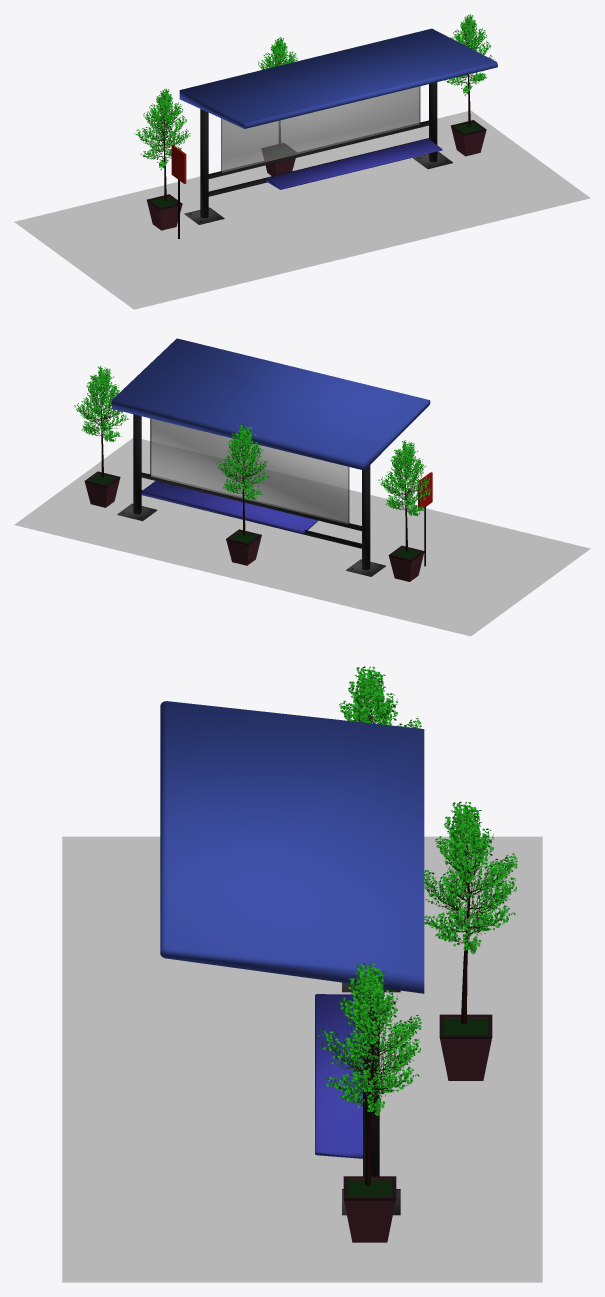
Rendered from stationBus.obj.
3 views of the same model, one above another, from view 1: azimuth 30°, elevation 25°; view 2: azimuth 150°, elevation 25°; view 3: azimuth 270°, elevation 25° (orthographic). The views are drawn at different scales.
Parts seen in each view (by area): view 1: Plane, Cube.002, Cube.004, Cylinder.012_Cylinder.014, Cube.003, leaves, leaves.001, Cube.006_Cube.007, Cube.005_Cube.006, Cube.007_Cube.008, Cube.001, tree (+2 smaller); view 2: Plane, Cube.002, Cube.004, Cylinder.012_Cylinder.014, Cube.003, leaves.002, leaves, leaves.001, Cube.006_Cube.007, Cube.007_Cube.008, Cube.005_Cube.006, Cube.001 (+3 smaller); view 3: Plane, Cube.002, leaves.001, leaves.002, Cube.003, Cube.007_Cube.008, Cube.006_Cube.007, tree.002, tree.001, leaves, Cylinder.012_Cylinder.014.
Boxes of the visible parts, x1,y1,x2,y2 form: Plane: (14,110,590,309); Cube.002: (179,28,497,128); Cube.004: (222,86,419,172); Cylinder.012_Cylinder.014: (200,82,437,218); Cube.003: (266,138,442,189); leaves: (134,88,190,170); leaves.001: (444,14,495,96); Cube.006_Cube.007: (450,120,486,156); Cube.005_Cube.006: (147,194,182,230); Cube.007_Cube.008: (262,143,296,176); Cube.001: (184,151,453,224); tree: (138,101,183,200); Plane: (14,438,590,636); Cube.002: (112,338,430,470); Cube.004: (151,418,348,524); Cylinder.012_Cylinder.014: (133,414,370,570); Cube.003: (142,481,317,533); leaves.002: (216,424,270,499); leaves: (378,440,432,516); leaves.001: (74,366,128,441); Cube.006_Cube.007: (84,471,120,507); Cube.007_Cube.008: (226,529,261,565); Cube.005_Cube.006: (388,545,424,581); Cube.001: (117,503,385,576); Plane: (62,836,542,1282); Cube.002: (160,701,424,993); leaves.001: (317,963,421,1115); leaves.002: (424,801,517,954); Cube.003: (315,994,362,1158); Cube.007_Cube.008: (439,1014,492,1080); Cube.006_Cube.007: (343,1176,396,1242); tree.002: (425,814,515,1024); tree.001: (325,979,416,1185); leaves: (339,666,421,728); Cylinder.012_Cylinder.014: (363,994,379,1176).
Size of the model in its own units: 20.99 by 6.08 by 9.55.
